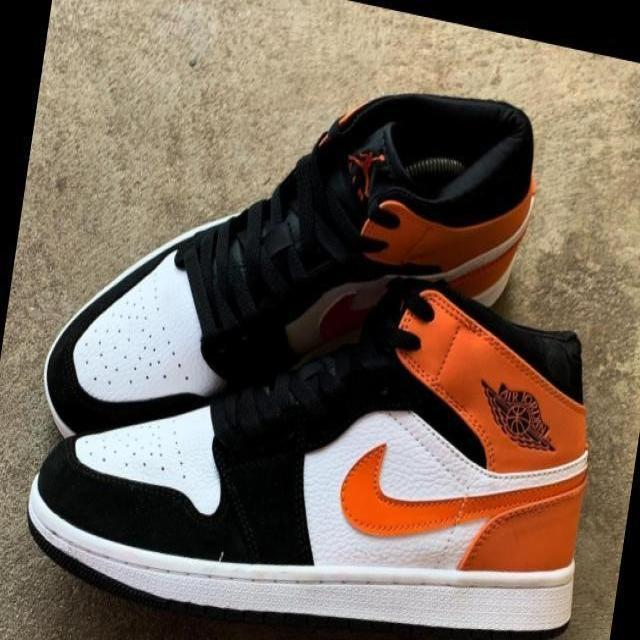J1_MateComp: (26, 276, 590, 632), (41, 90, 537, 439)
J1_ShoeLogo: (479, 377, 556, 453)
J1_StitchPattern: (27, 514, 577, 633), (177, 142, 468, 335), (337, 410, 589, 565), (391, 284, 576, 459), (178, 191, 313, 334), (71, 404, 222, 515), (174, 220, 262, 334), (87, 299, 181, 388), (77, 422, 200, 480), (343, 144, 467, 201), (342, 145, 400, 263), (388, 292, 437, 353), (344, 146, 385, 201), (400, 152, 466, 180)
